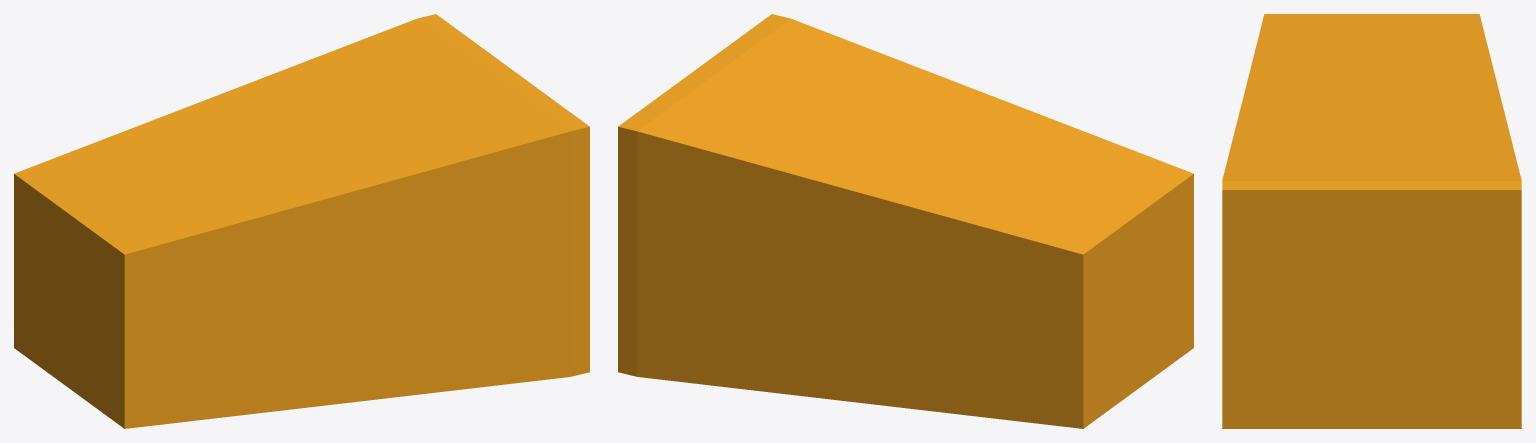
Rendered from Low_poly_bullet_001.fbx.
The picture shows the model from 3 angles, left to right: view 1: azimuth 30°, elevation 25°; view 2: azimuth 150°, elevation 25°; view 3: azimuth 270°, elevation 25°; orthographic projection. The views are drawn at different scales.
Parts seen in each view (by area): view 1: Low_poly_bullet_001; view 2: Low_poly_bullet_001; view 3: Low_poly_bullet_001.
Part boxes in pixels (bbox=[...]): Low_poly_bullet_001: bbox=[14, 14, 589, 428]; Low_poly_bullet_001: bbox=[618, 14, 1193, 428]; Low_poly_bullet_001: bbox=[1222, 14, 1521, 428].
Size of the model in its own units: 26.65 by 14.09 by 16.01.
